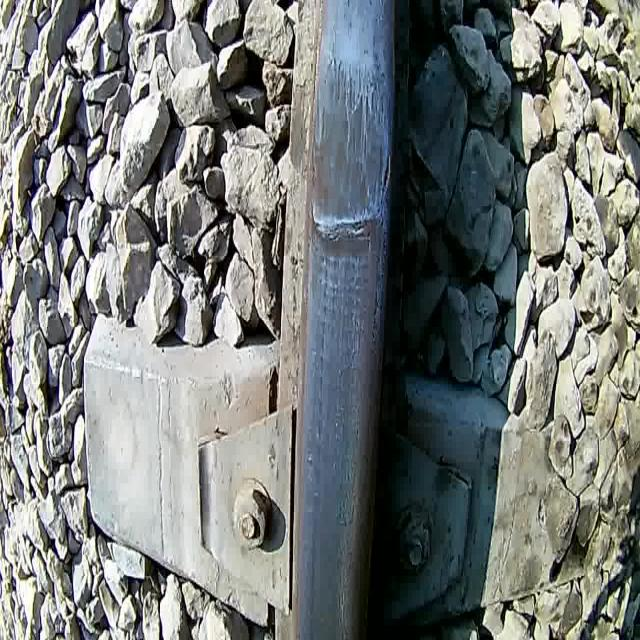Squats: (302, 33, 400, 274)
